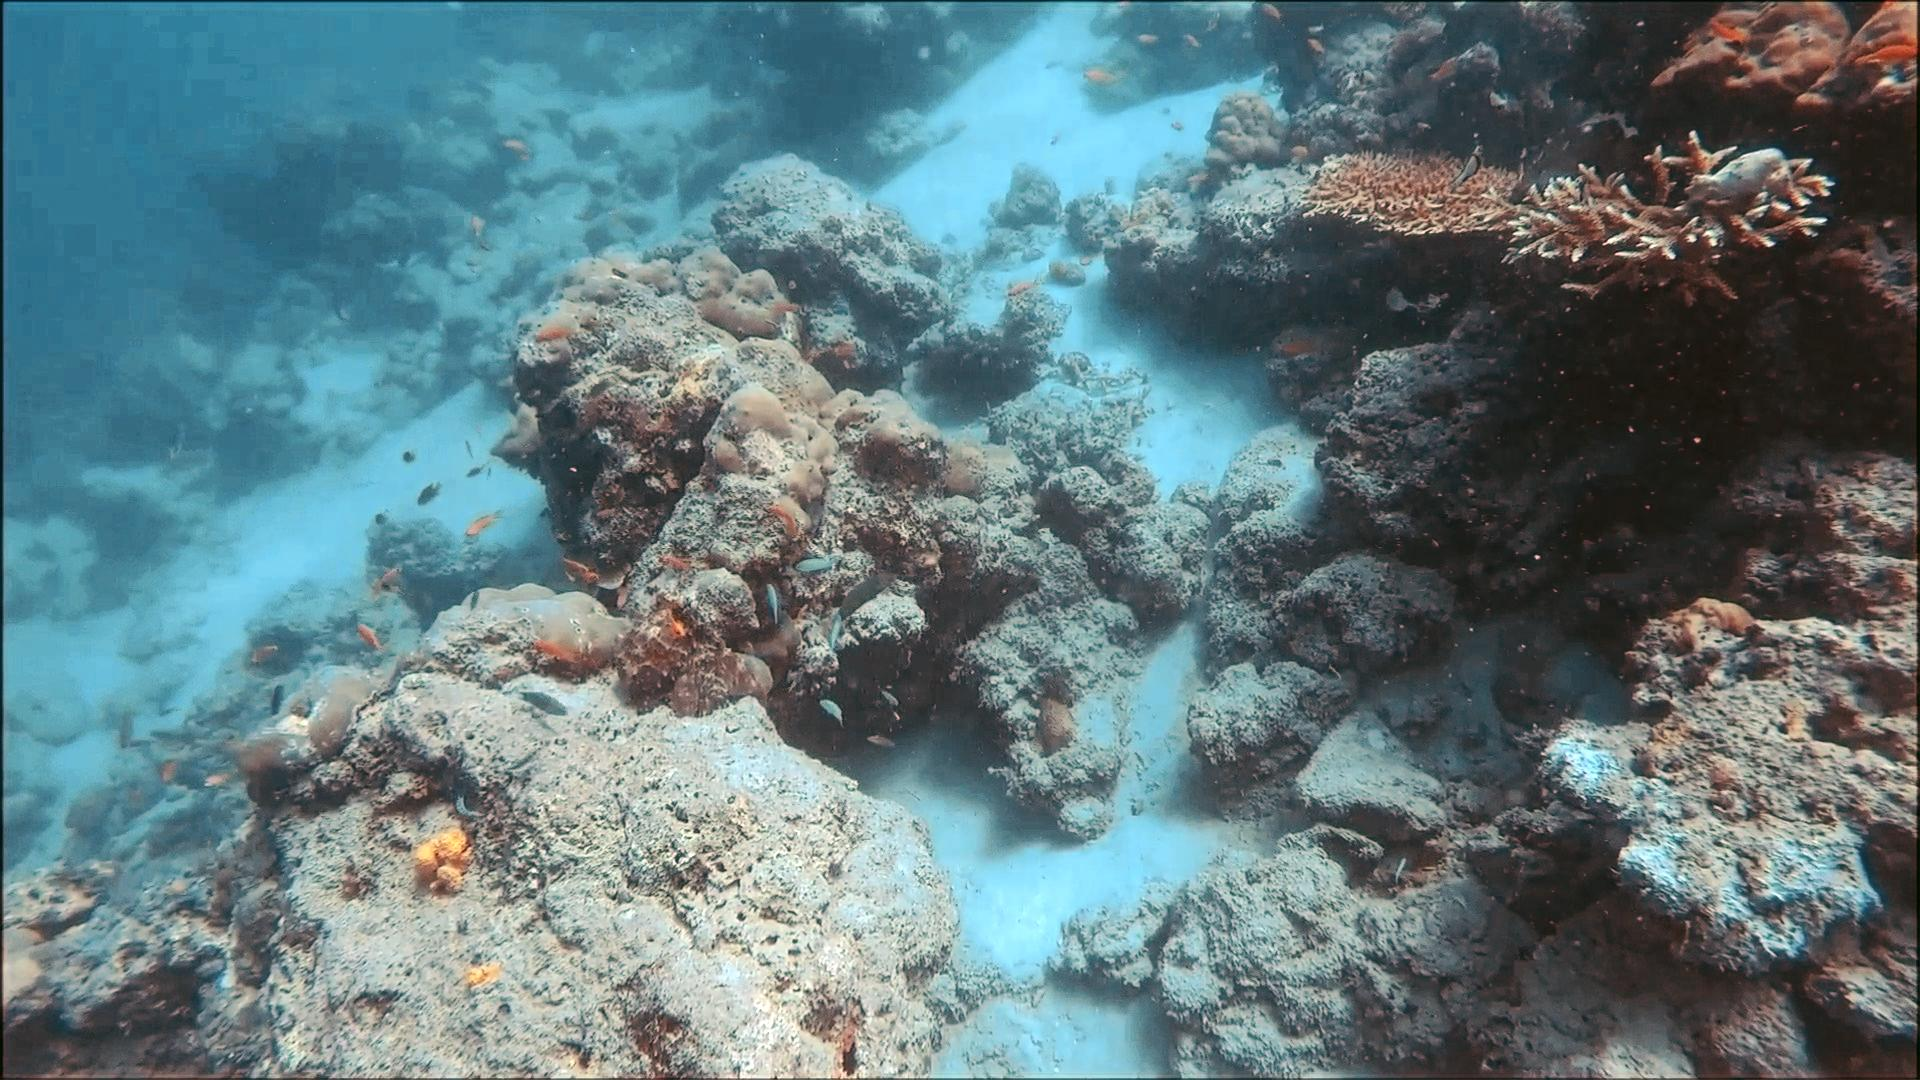Porites-Porites pukoensis: (650, 235, 876, 550)
